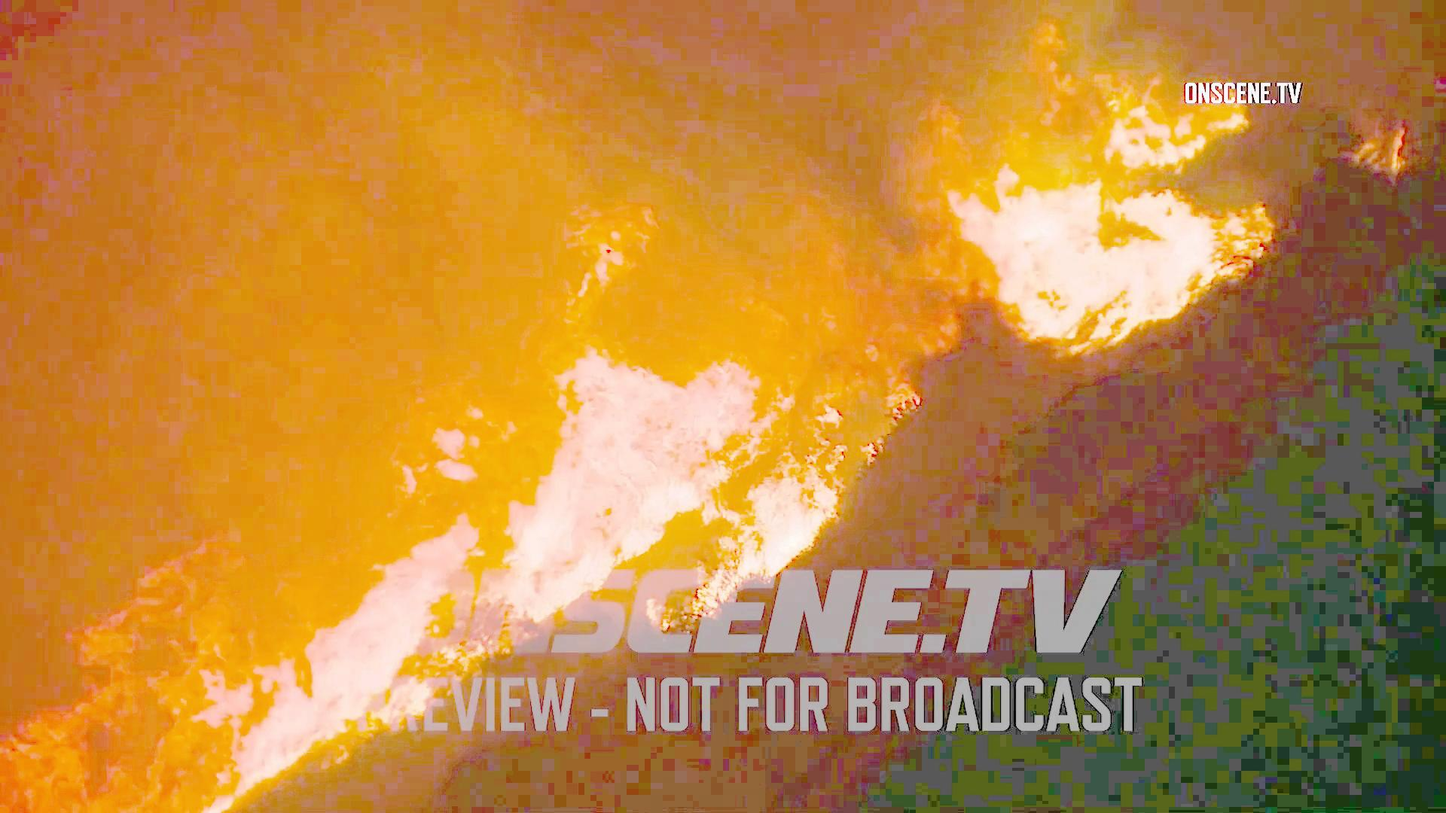fire: (10, 482, 392, 795), (447, 228, 788, 578), (921, 0, 1159, 359)
